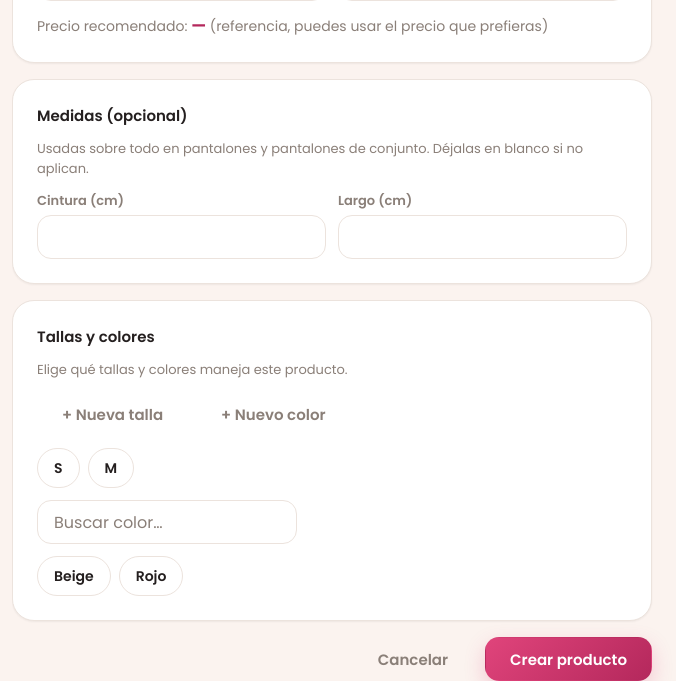
Test: ProductFormPage (crear) › rechaza el envío sin nombre ni categoría
(page scrolled)
Click the button "Crear producto". click: x=568, y=659
box: [485, 637, 652, 680]
(page scrolled)
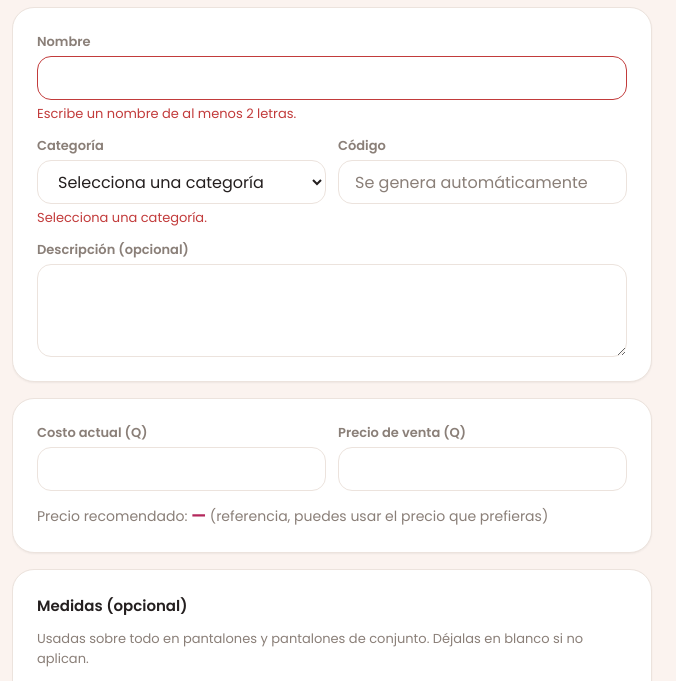
Now the text "Escribe un nombre de al menos 2 letras." is shown, box [37, 104, 296, 123]
Now the text "Selecciona una categoría." is shown, box [37, 208, 207, 227]
